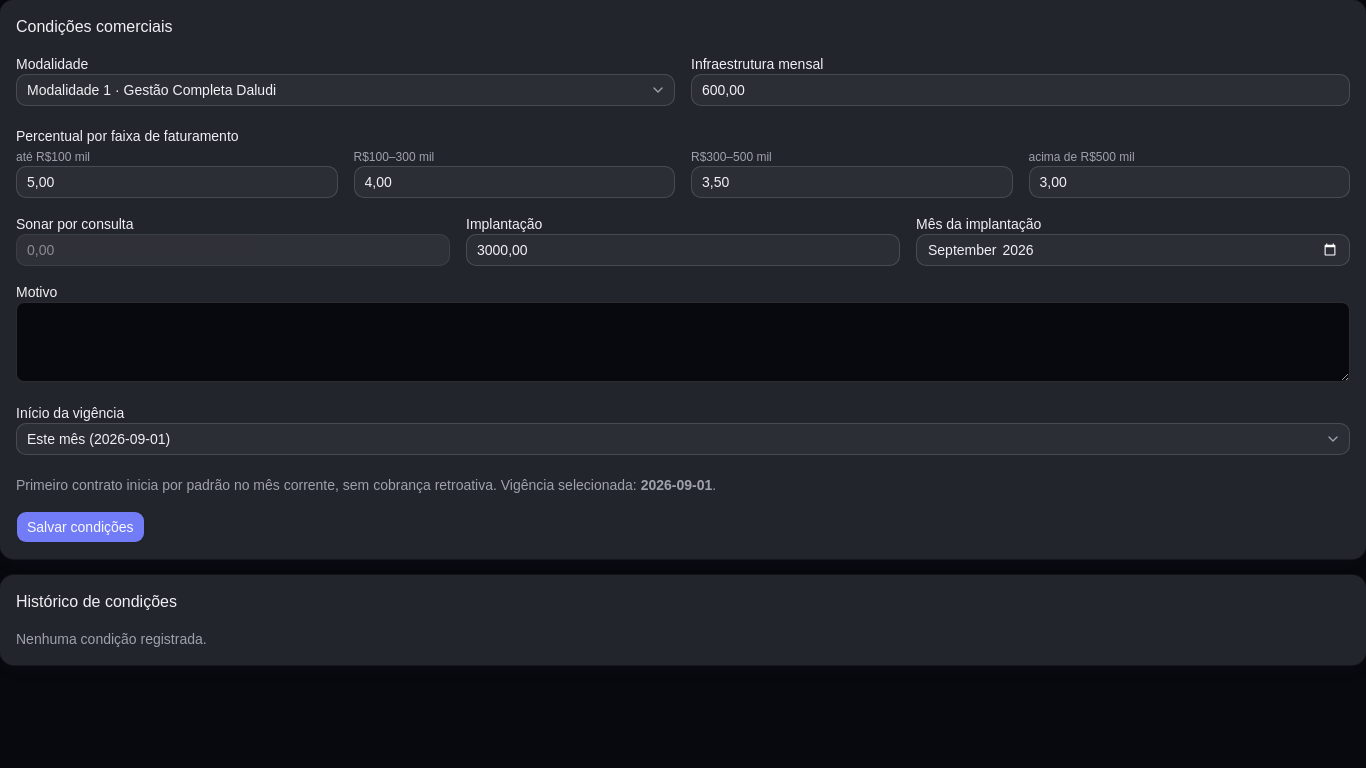
Test: CommercialTermsForm › exige mês da implantação quando implantação é maior que zero e o mês for apagado
The width and height of the screenshot is (1366, 768).
Clear the field labelled "Mês da implantação" at (1133,250), box [916,234,1350,266]
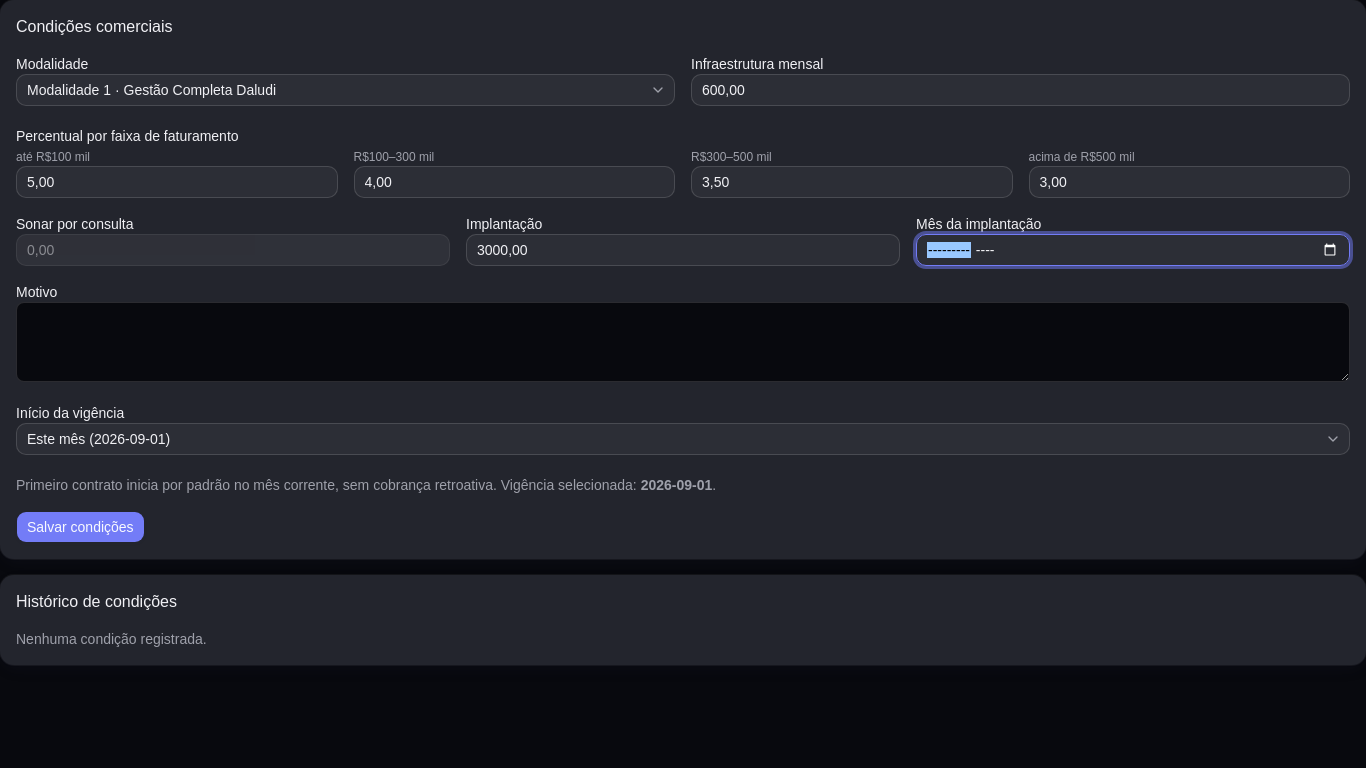
Type "teste obrigatoriedade mês" into the text box labelled "Motivo" at (683,342), box [16,302,1350,382]
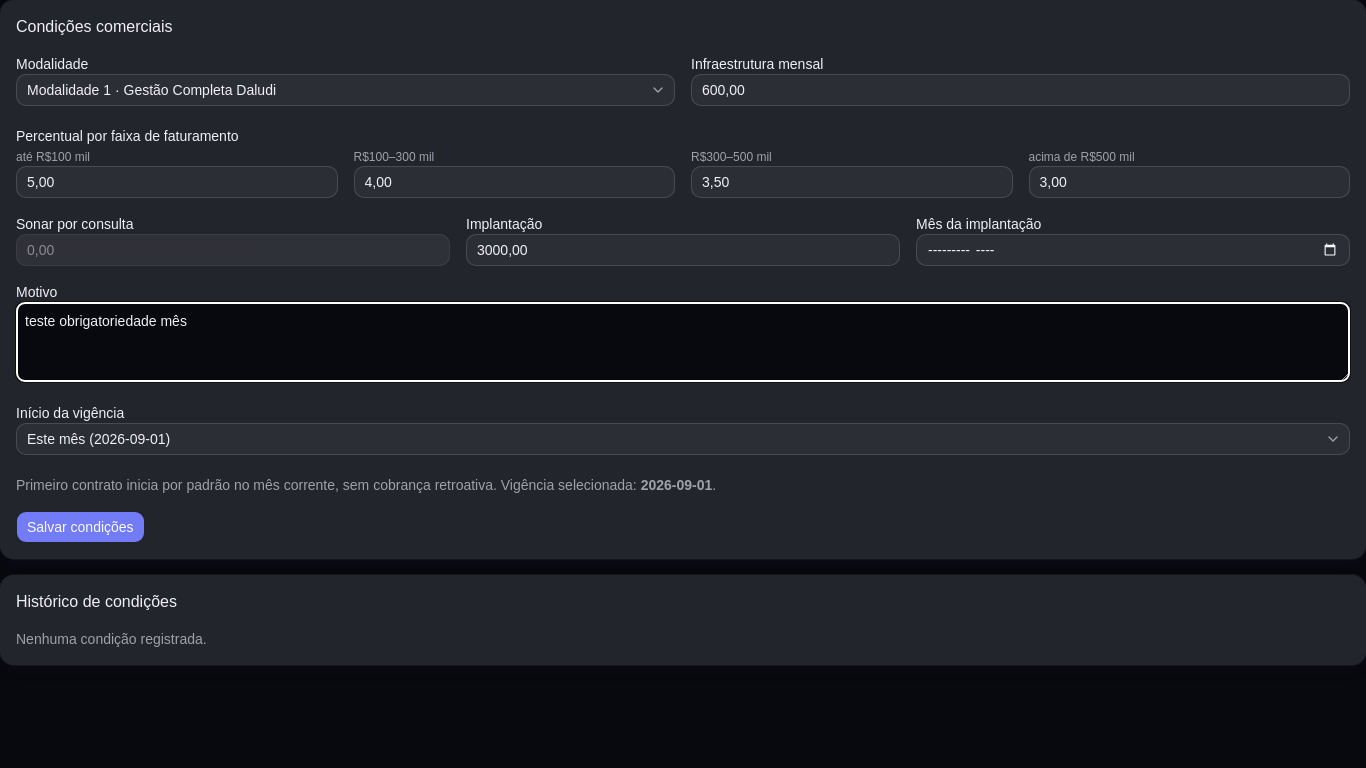
Click the button "Salvar condições" at (80,527), box [16,511,145,543]
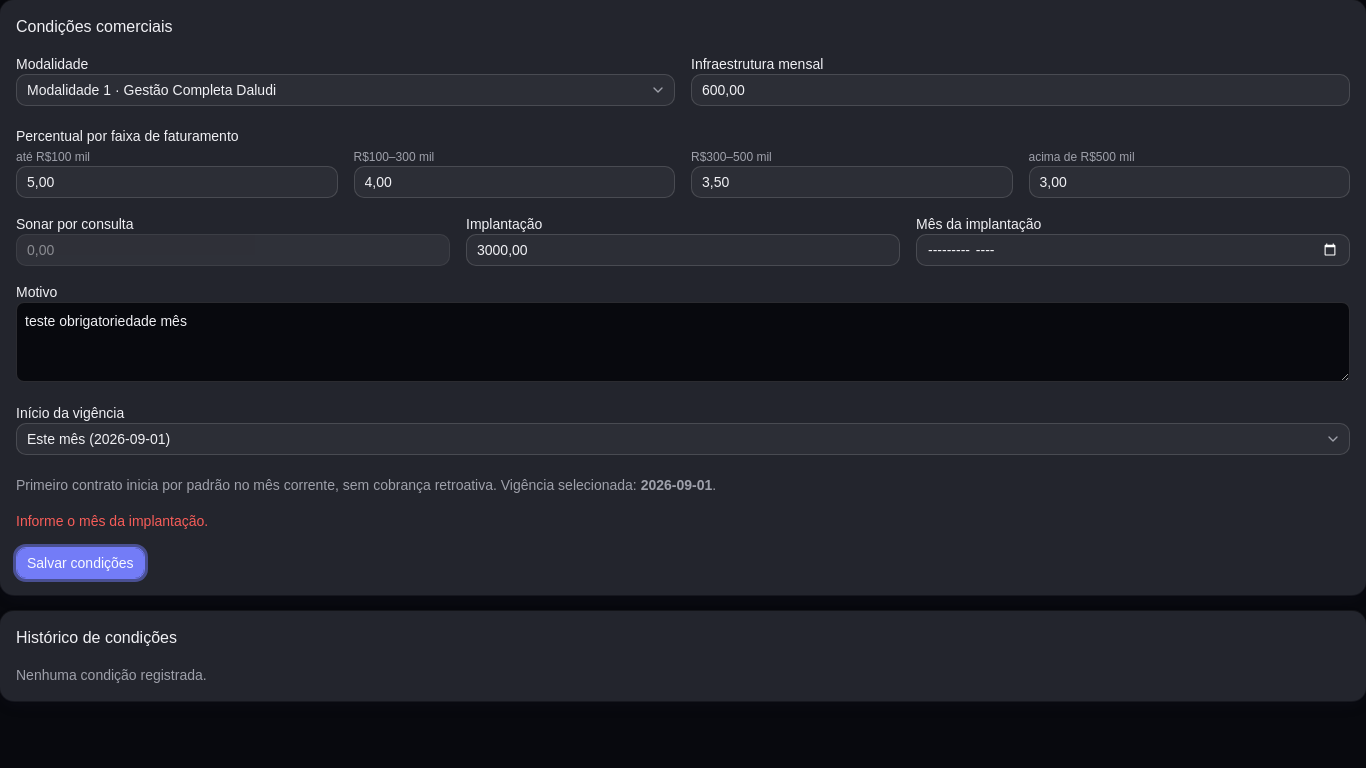
Now the text "Informe o mês da implantação." is shown, box [16,513,208,529]
